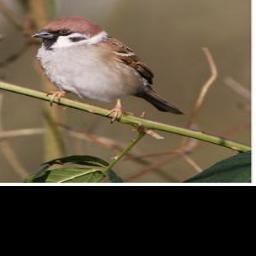Sparrow: (27, 15, 190, 124)
